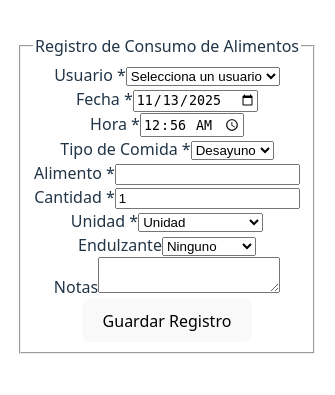
Test case: RegistrationForm - Integración › flujo feliz: envía, muestra éxito, persiste y resetea manteniendo usuario
Select "Juan" in the dropdown labelled "Usuario *". click: {"x": 203, "y": 77}
box: x1=126 y1=67 x2=280 y2=86
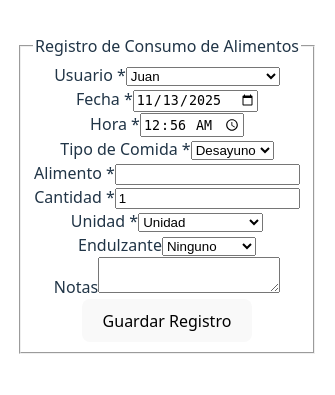
Type "Manzana" into the field labelled "Alimento *". click: {"x": 207, "y": 174}
box: x1=115 y1=164 x2=300 y2=185
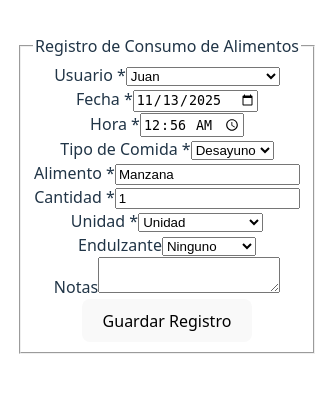
Click the button "Guardar Registro". click: {"x": 167, "y": 321}
box: x1=82 y1=299 x2=252 y2=342
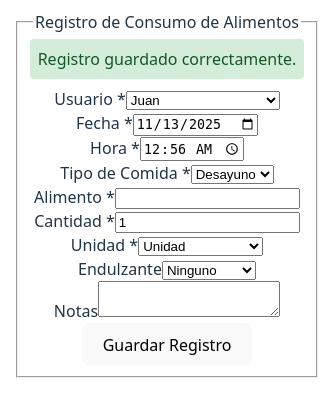
Expected: the number field labelled "Cantidad *" holds "1", x1=115 y1=212 x2=300 y2=233
Expected: the message shows "guardado", x1=38 y1=48 x2=296 y2=70
Expected: the field labelled "Alimento *" is empty, x1=115 y1=188 x2=300 y2=209
